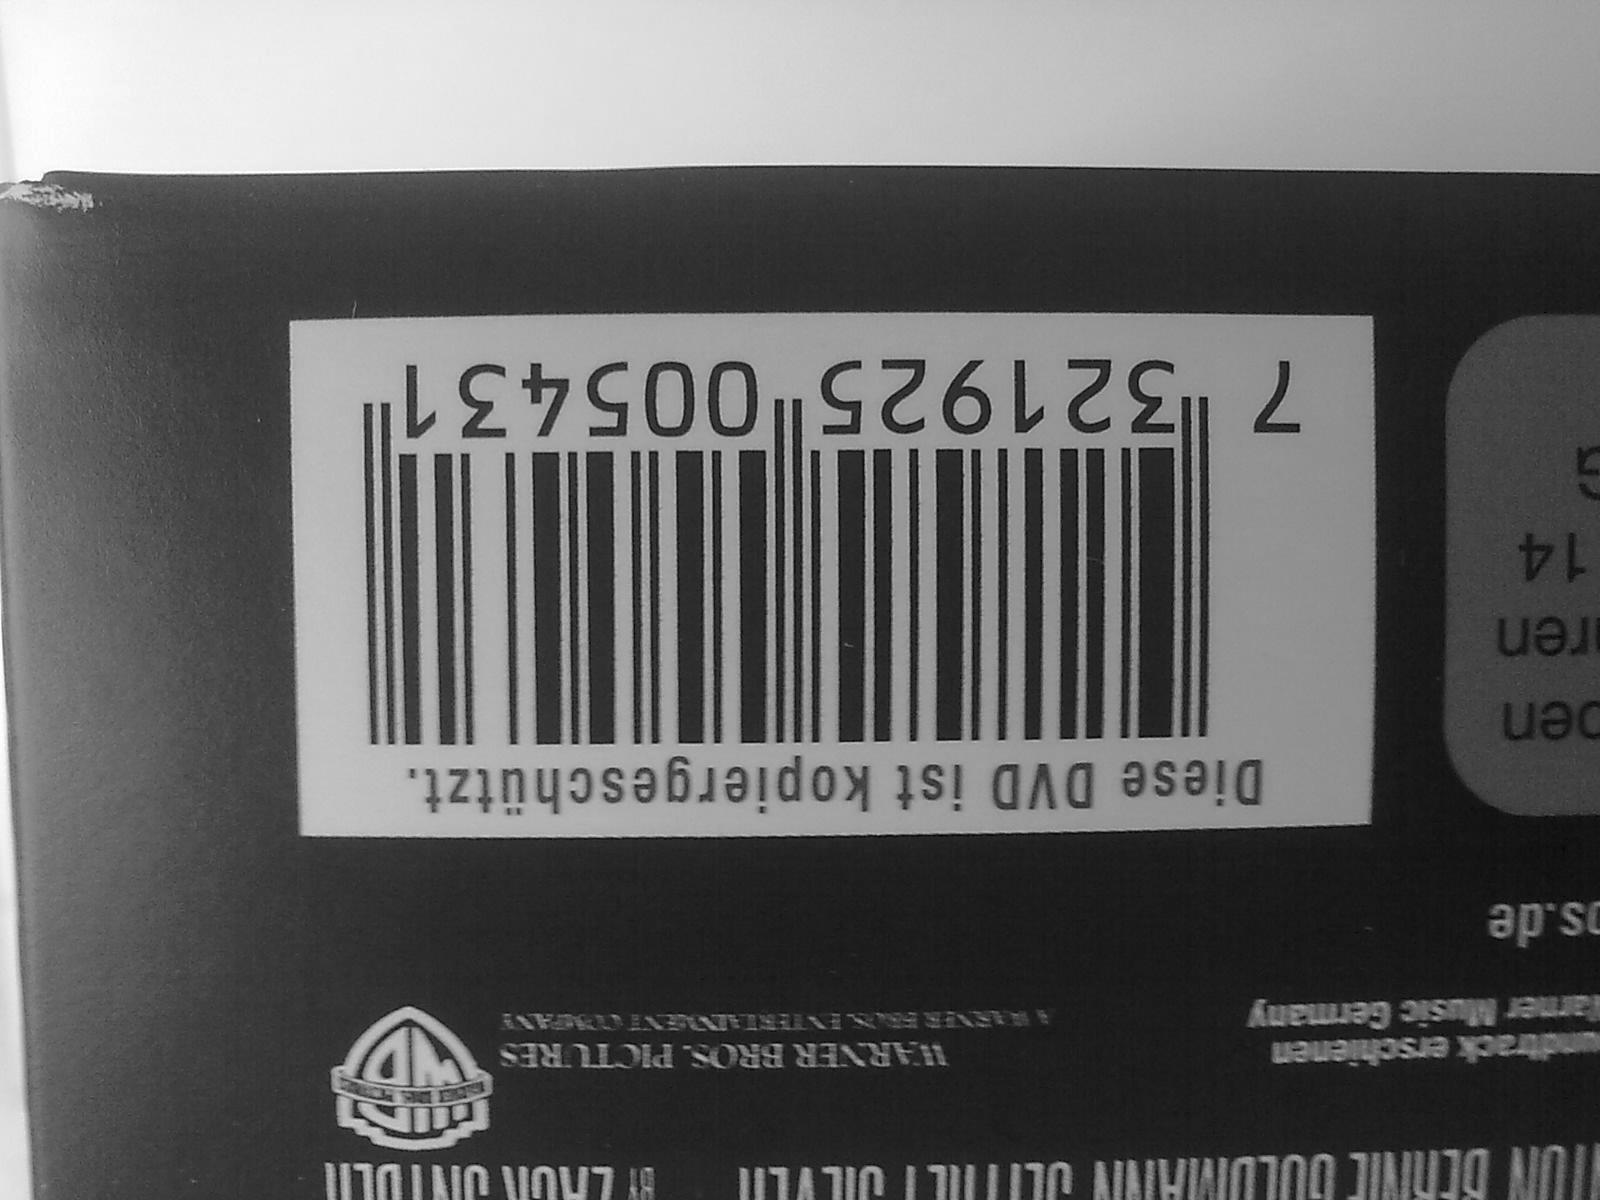Barcode: (340, 340, 1343, 800)
